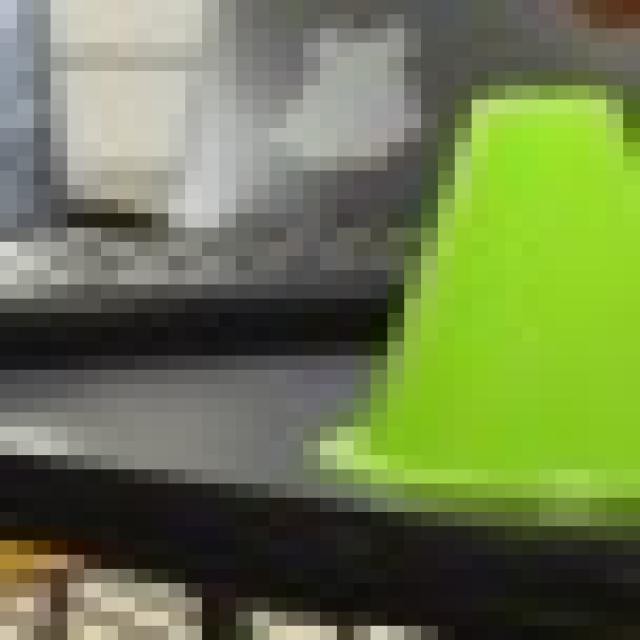cono: (303, 71, 623, 512)
